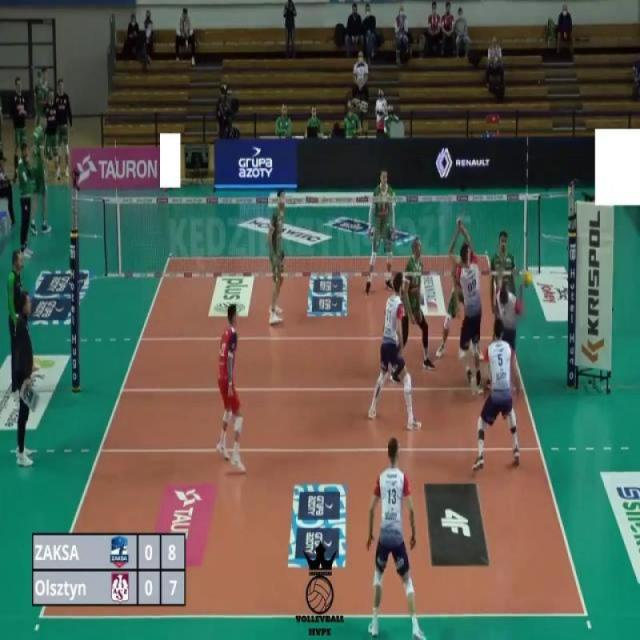volleyball: (522, 268, 534, 288)
